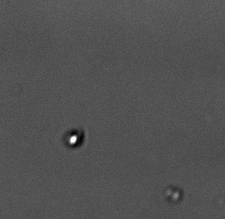Living Cell: (64, 128, 83, 147)
